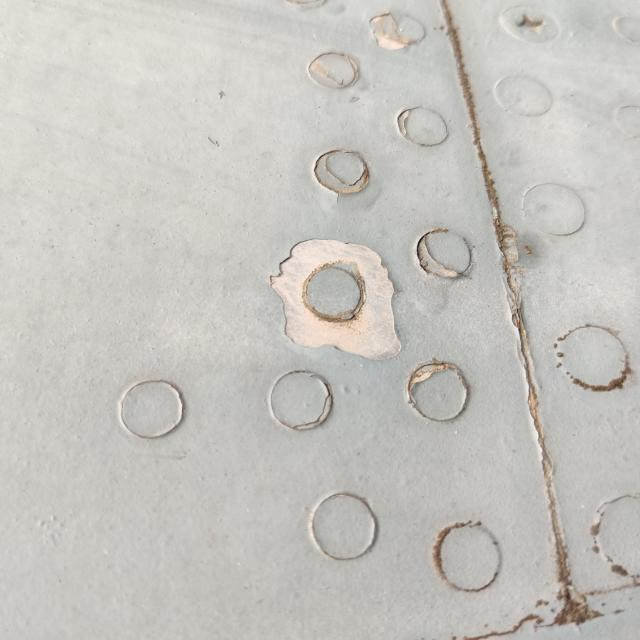paint-off: (247, 211, 429, 380)
